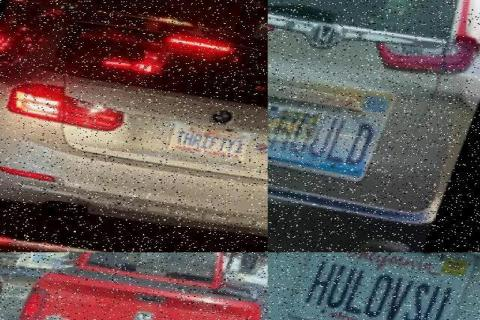LicensePlate: (284, 252, 476, 320), (165, 122, 251, 162), (268, 102, 321, 148)
